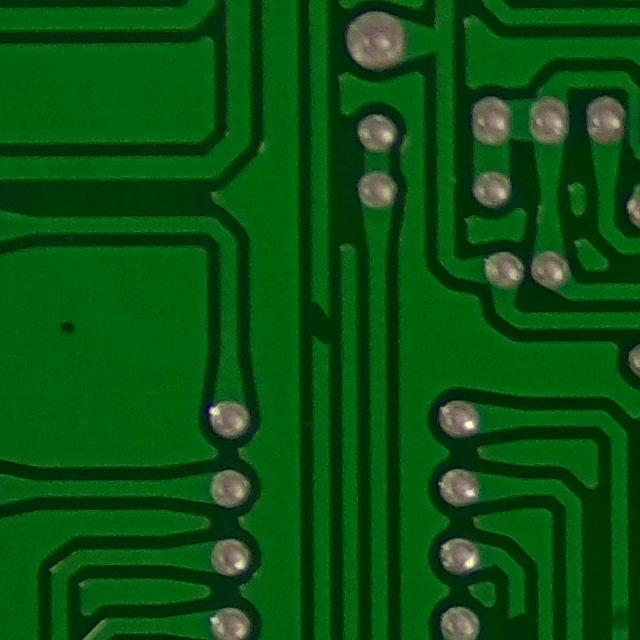open_circuit: (304, 281, 336, 359)
